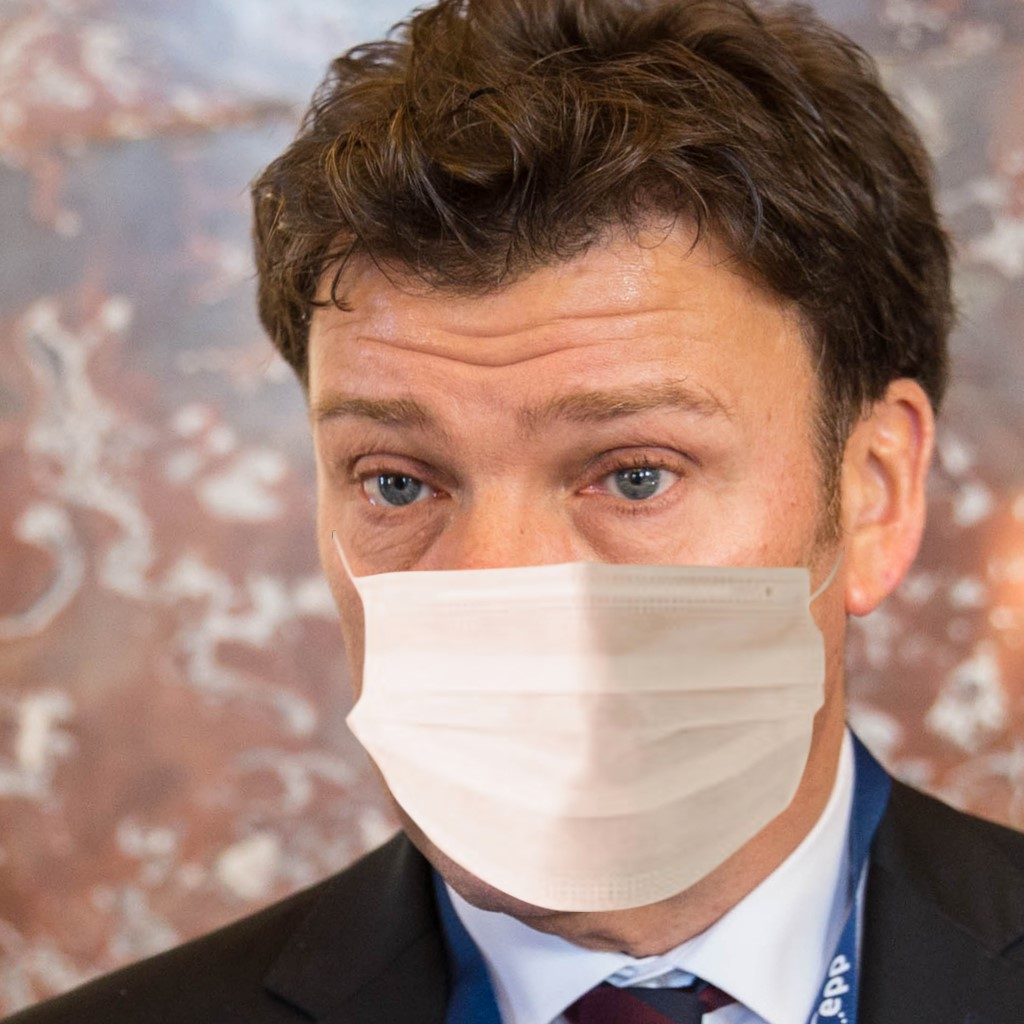con_mascara: (308, 178, 855, 886)
